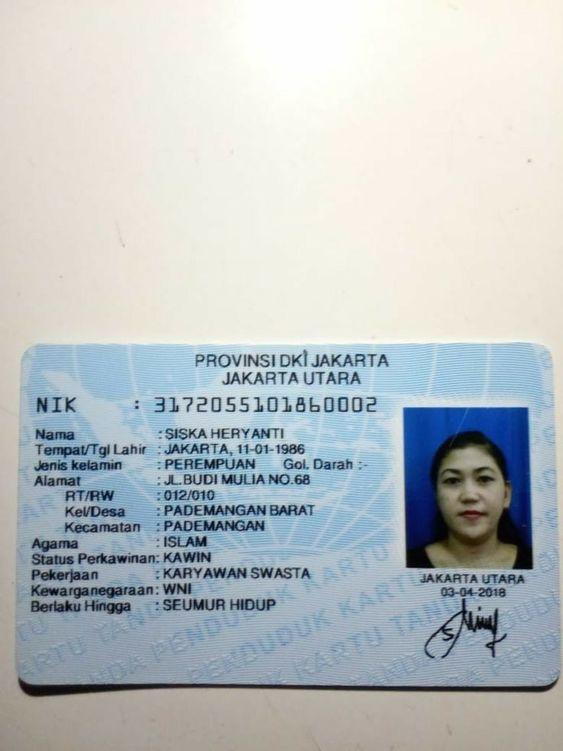ID-card: (15, 344, 550, 694)
